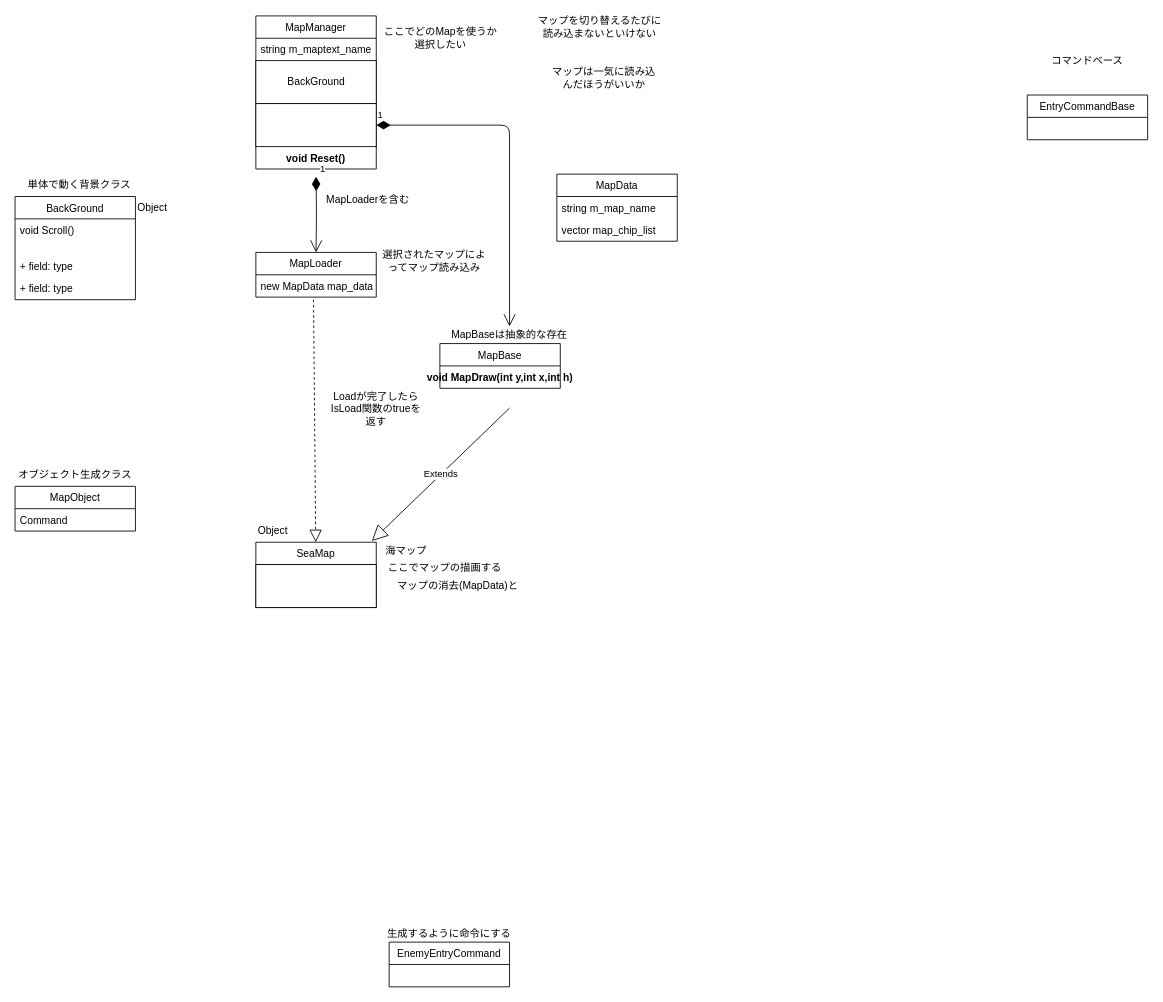
Some shapes in this 1163 by 1002 pixel diagram are drawn without their labels. Here are the shapes that lost their labels. From the top down, the centre of each, then its label:
pixel 315 125: std::vector<MapBase*>
pixel 315 586: void Change(MapData*md,, new SeaMap);
